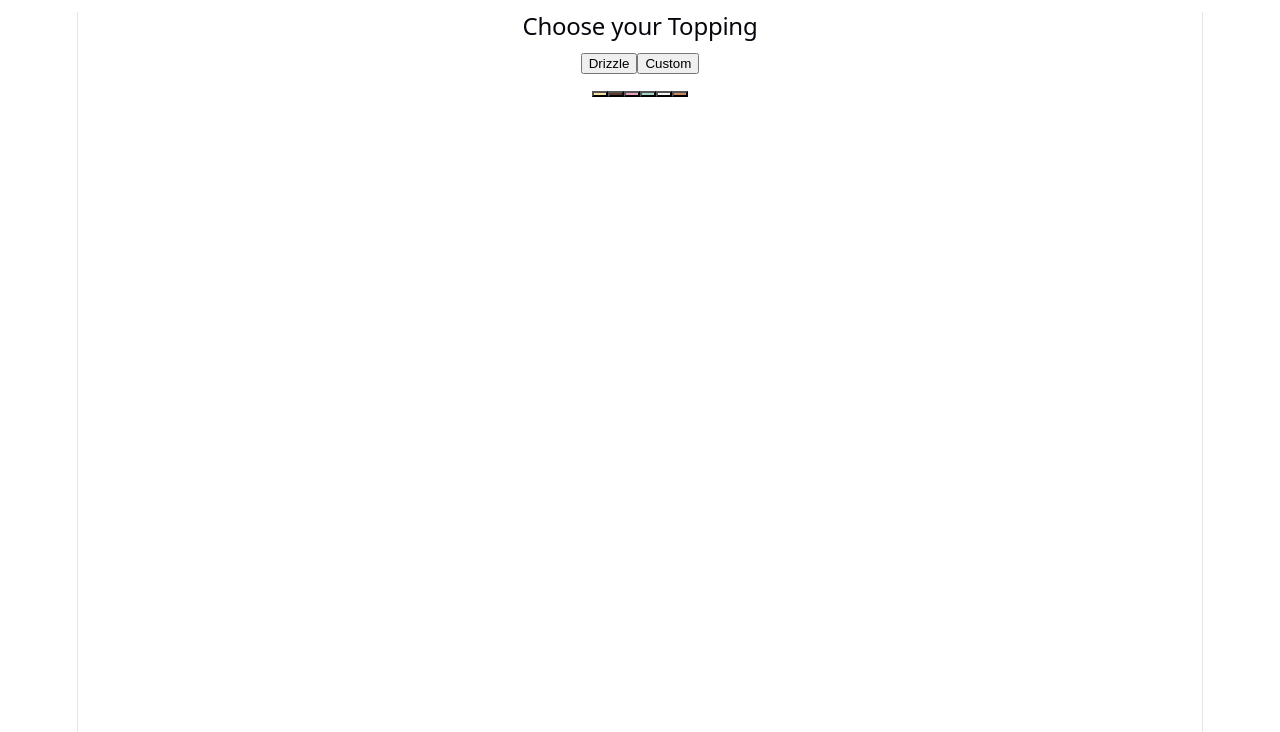
Test: ToppingStep › shows the custom topping name field after Custom is clicked
Click the button "Custom". click: [668, 64]
box: x1=637 y1=53 x2=699 y2=74
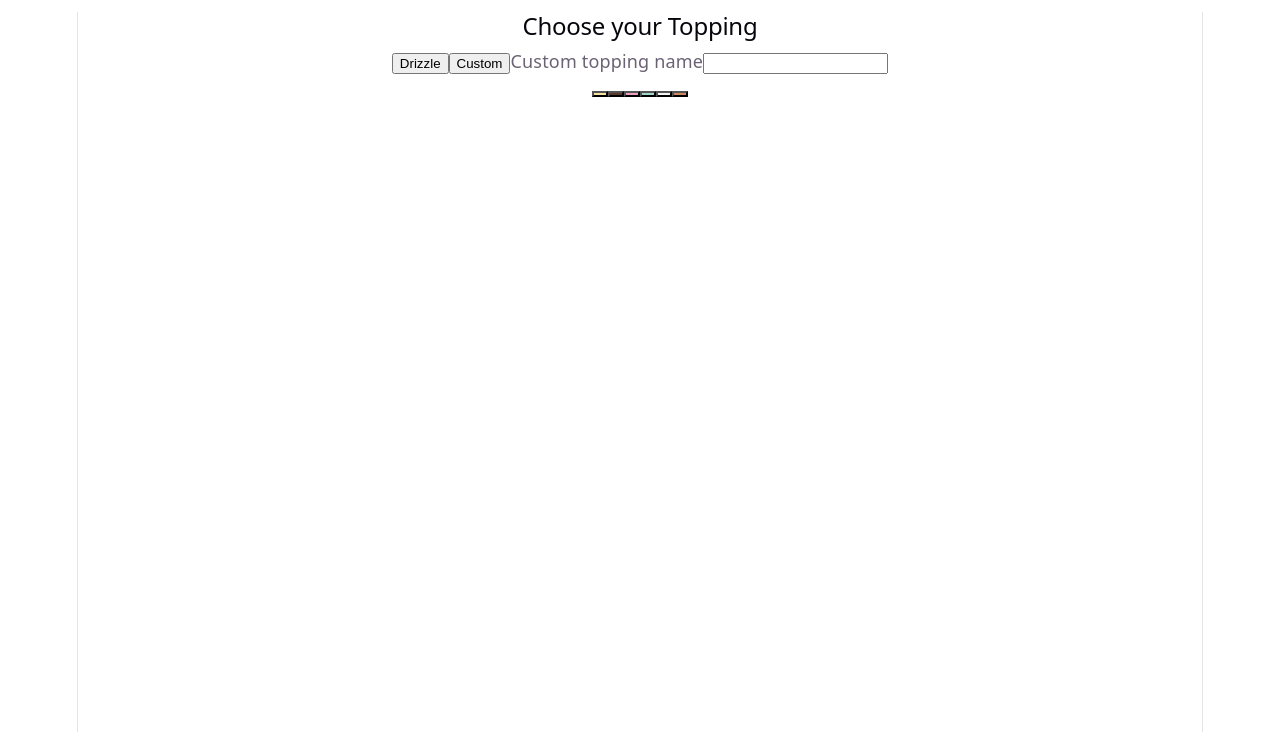
Result: the field labelled "Custom topping name" is shown at x1=703 y1=53 x2=888 y2=74
